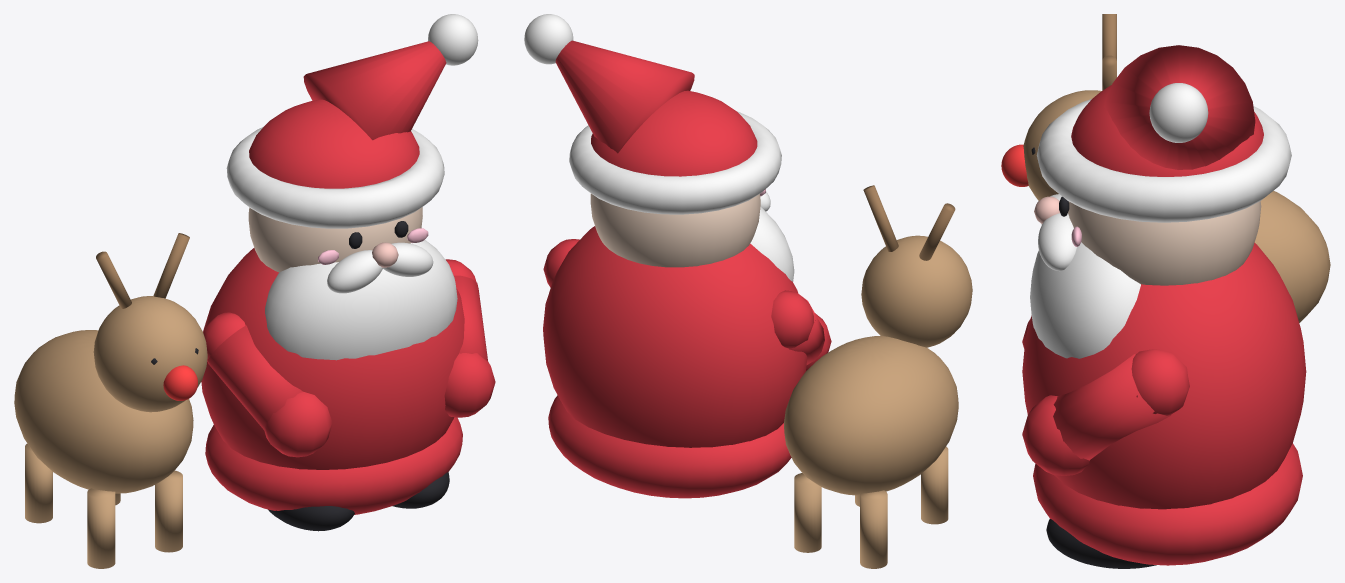
File: rudolph.glb
The picture shows the model from 3 angles, left to right: view 1: azimuth 30°, elevation 25°; view 2: azimuth 150°, elevation 25°; view 3: azimuth 270°, elevation 25°; orthographic projection. The views are drawn at different scales.
Parts seen in each view (by area): view 1: rudolph_red, rudolph_deer, rudolph_white, rudolph_skin, rudolph_black, rudolph_brown, rudolph_rednose; view 2: rudolph_red, rudolph_deer, rudolph_white, rudolph_skin, rudolph_brown; view 3: rudolph_red, rudolph_white, rudolph_skin, rudolph_deer, rudolph_black, rudolph_brown, rudolph_rednose, rudolph_nose.
Boxes of the visible parts, x1,y1,x2,y2 form: rudolph_red: (201, 41, 495, 514); rudolph_deer: (14, 296, 207, 568); rudolph_white: (226, 14, 478, 360); rudolph_skin: (248, 207, 422, 272); rudolph_black: (151, 221, 449, 531); rudolph_brown: (96, 233, 189, 308); rudolph_rednose: (163, 365, 197, 400); rudolph_red: (543, 40, 831, 498); rudolph_deer: (784, 235, 972, 568); rudolph_white: (524, 14, 794, 281); rudolph_skin: (590, 193, 760, 267); rudolph_brown: (863, 185, 955, 260); rudolph_red: (1022, 45, 1306, 565); rudolph_white: (1030, 83, 1291, 358); rudolph_skin: (1068, 201, 1261, 285); rudolph_deer: (1023, 90, 1330, 322); rudolph_black: (1031, 147, 1156, 568); rudolph_brown: (1102, 14, 1116, 90); rudolph_rednose: (1001, 144, 1028, 186); rudolph_nose: (1034, 196, 1059, 223).
Size of the model in its own units: 3.2 by 3.16 by 1.81.
